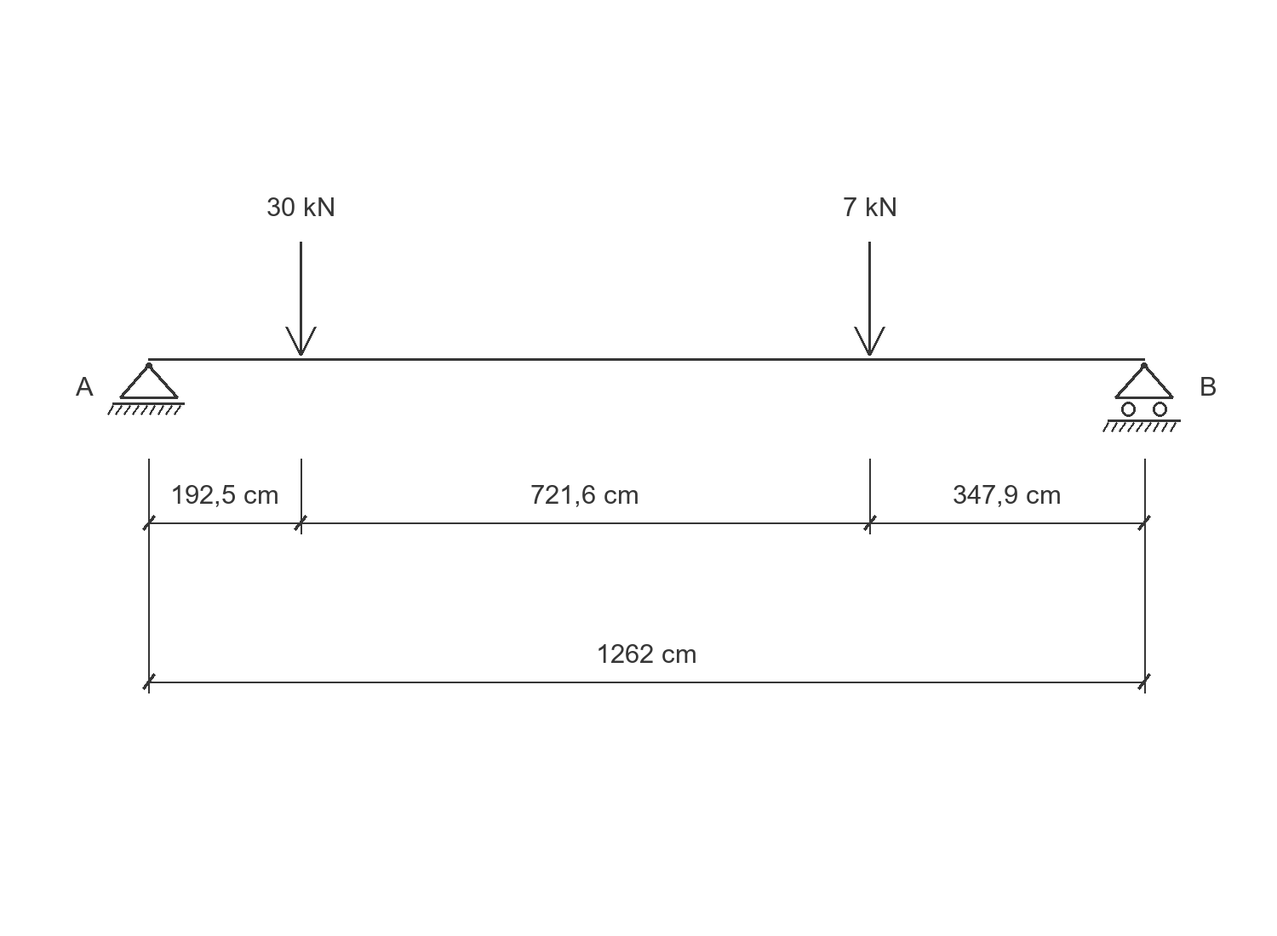pin_support: (107, 362, 185, 415)
point_load: (285, 242, 317, 356), (854, 242, 885, 356)
roller_support: (1102, 362, 1181, 432)
